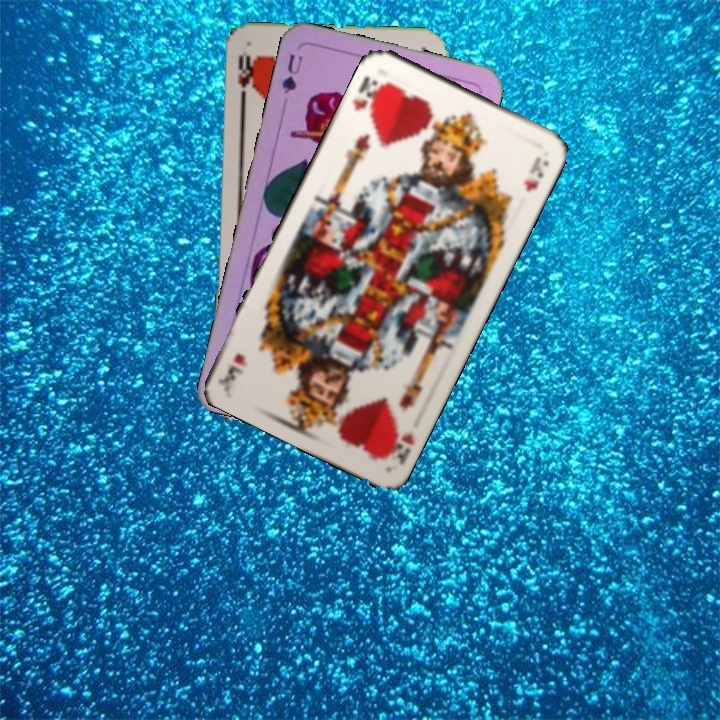GU: (277, 50, 305, 96)
HK: (349, 71, 389, 121), (379, 419, 417, 468)
HO: (233, 51, 257, 106)
